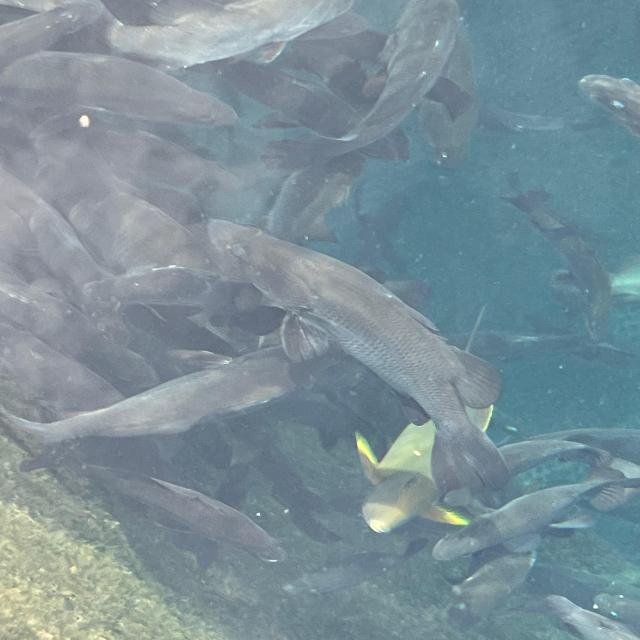ikan: (201, 215, 511, 500), (19, 442, 290, 565), (1, 343, 302, 448), (430, 474, 638, 562)
